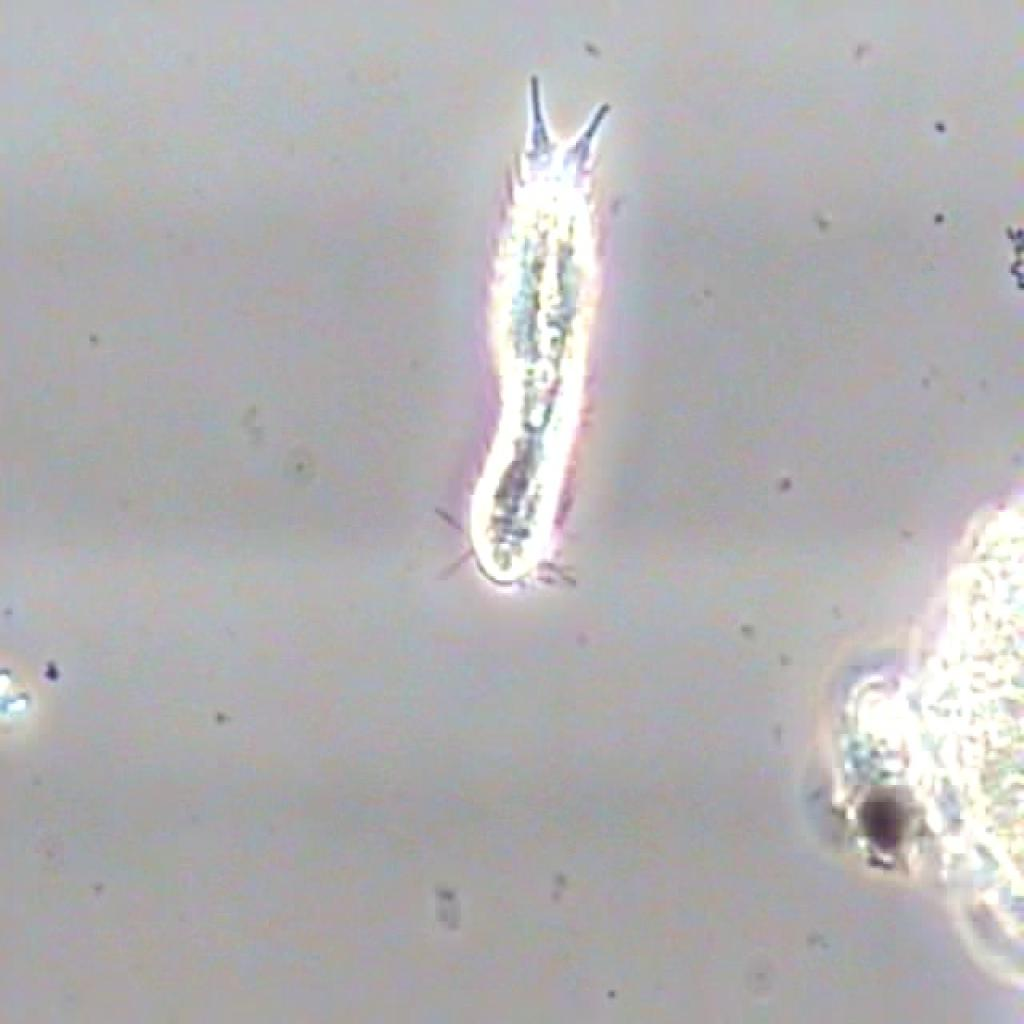Chaetonotus: (418, 48, 634, 611)
